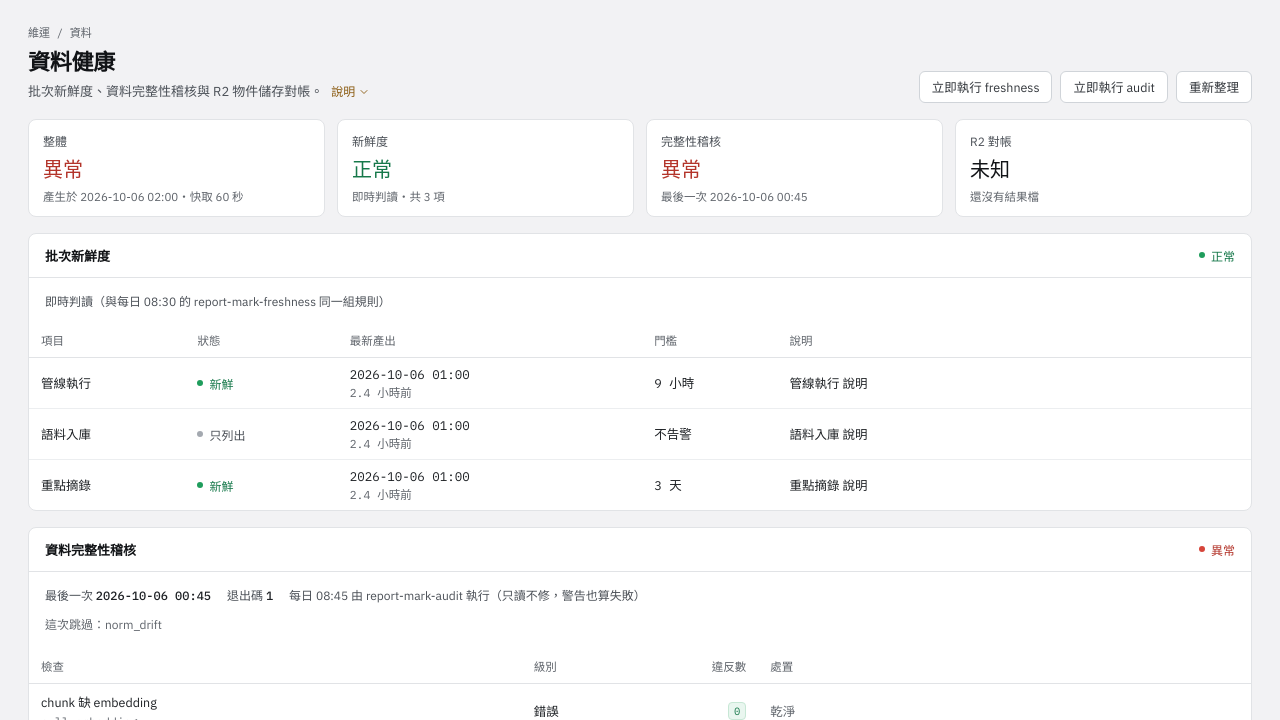
Scenario: 資料健康：同一組工作正在跑（409）→ 提示原因，不當成成功
Click the button "立即執行 freshness" at (986, 87), box x1=919 y1=71 x2=1052 y2=103
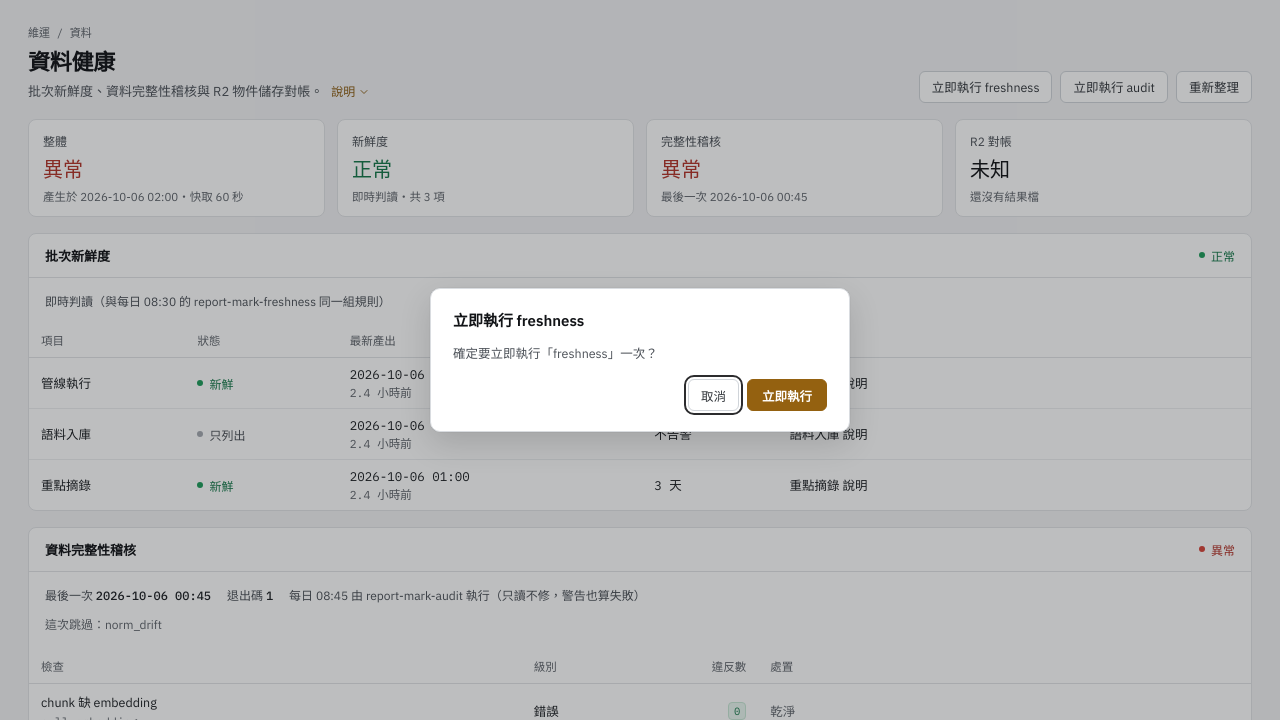
Click the button "立即執行" at (787, 395), box x1=747 y1=379 x2=827 y2=411
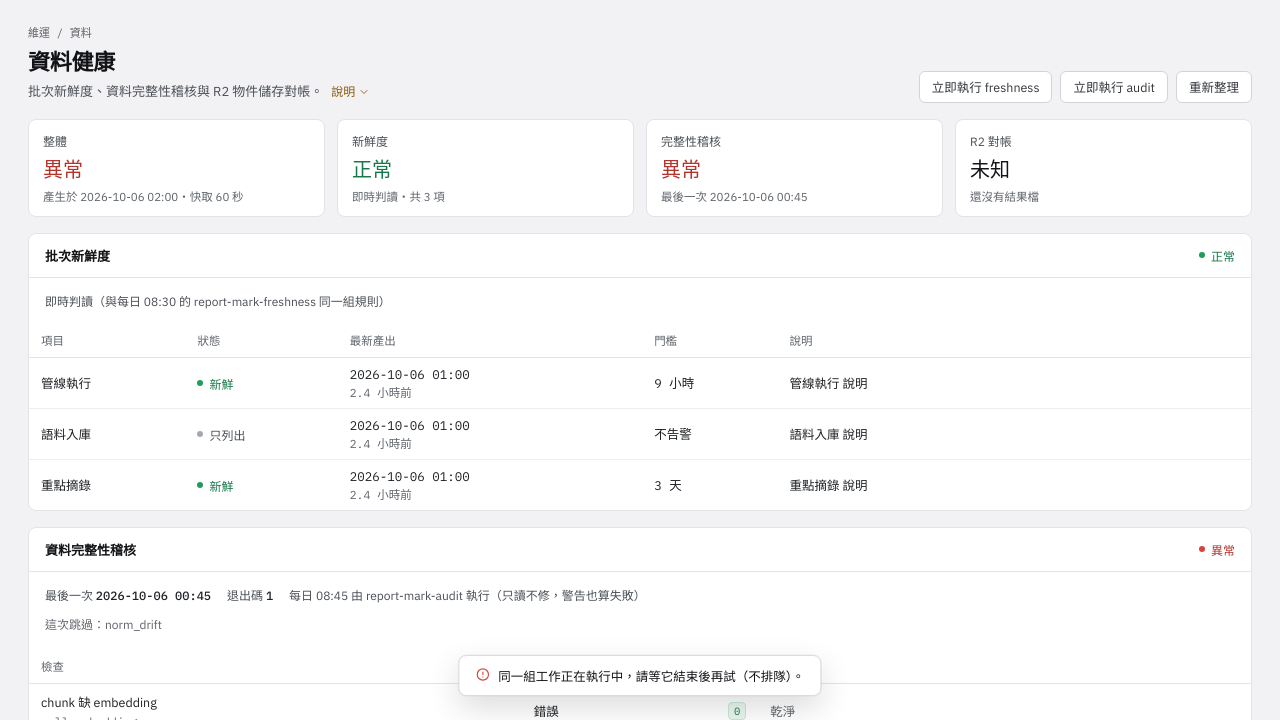
Now the text "同一組工作正在執行中，請等它結束後再試（不排隊）。" is shown, box x1=458 y1=655 x2=822 y2=696
